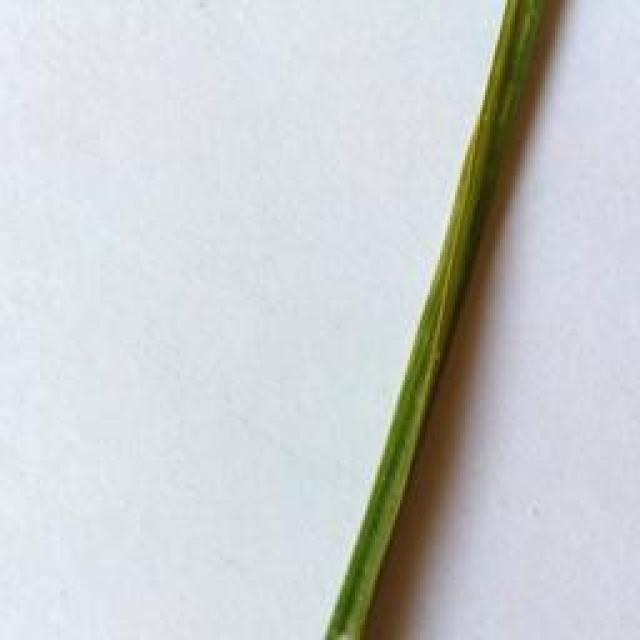Healthy-Plant: (326, 0, 554, 640)
